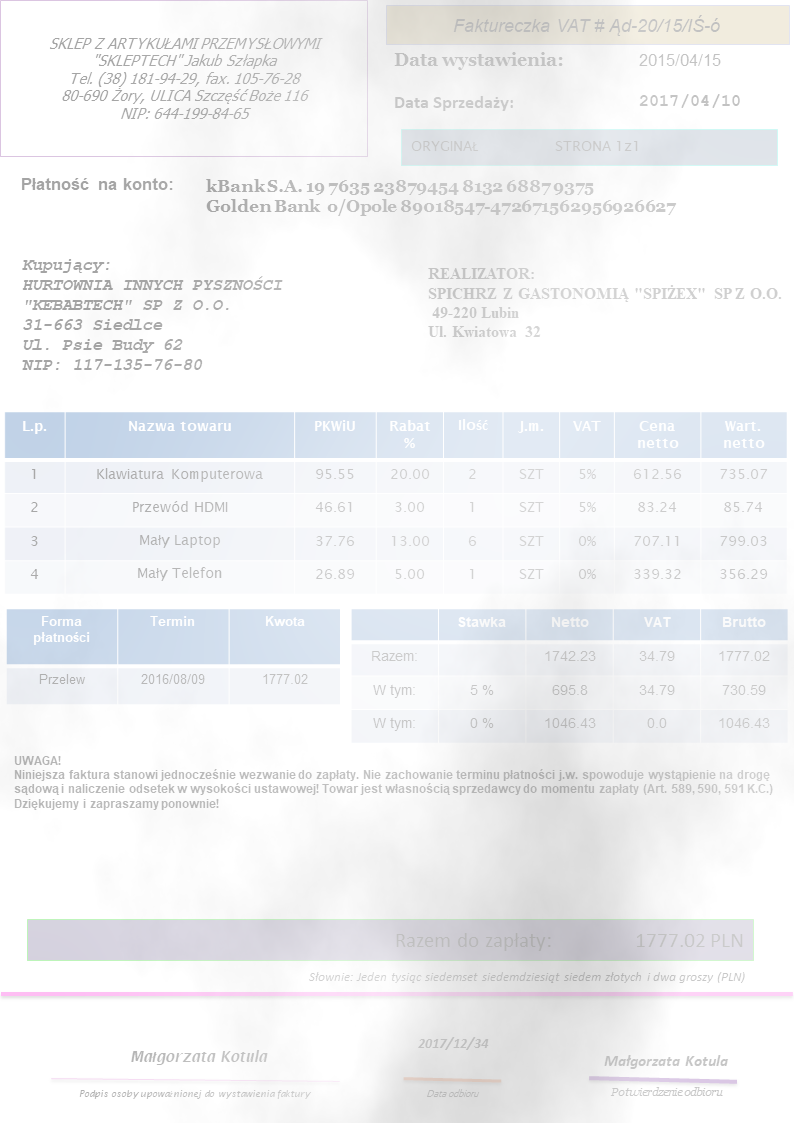Table: (2, 408, 789, 597), (347, 606, 789, 746), (5, 607, 342, 705)
TextBox: (10, 749, 777, 814), (16, 253, 286, 374), (423, 262, 786, 342), (45, 27, 326, 127), (201, 173, 680, 218), (390, 924, 745, 952), (305, 967, 752, 986), (448, 11, 727, 36), (408, 134, 642, 158), (391, 45, 568, 71), (72, 1085, 315, 1102), (14, 173, 178, 197), (127, 1041, 272, 1068), (388, 90, 521, 115), (597, 1049, 734, 1071), (635, 87, 745, 112), (633, 45, 723, 73), (604, 1084, 727, 1101), (414, 1033, 491, 1053), (422, 1085, 483, 1104)
